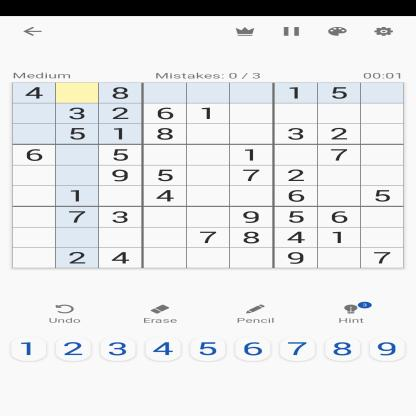sudoku: (8, 80, 409, 272)
